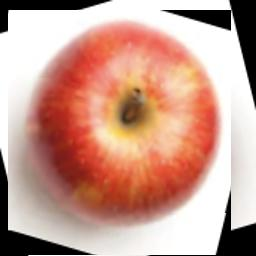Apple Fresh: (8, 10, 231, 256)
